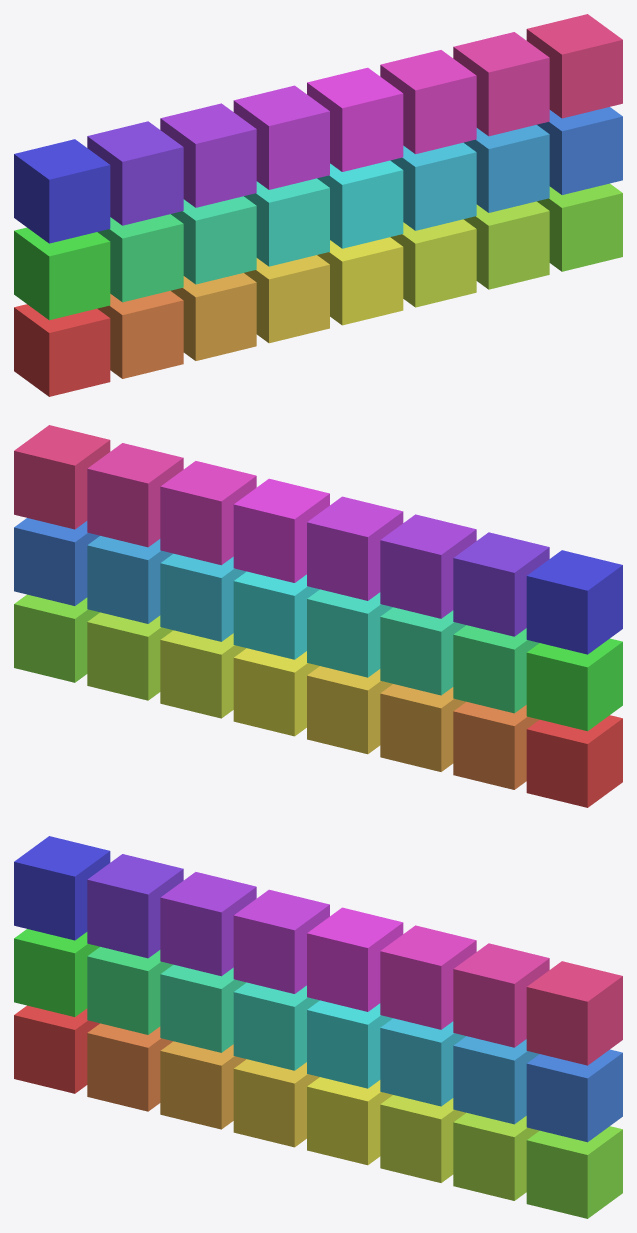
The model's file is many_materials.glb.
3 renders of one model, top to bottom at view 1: azimuth 30°, elevation 25°; view 2: azimuth 150°, elevation 25°; view 3: azimuth 330°, elevation 25°, orthographic.
Parts seen in each view (by area): view 1: swatches; view 2: swatches; view 3: swatches.
Part boxes in pixels (x1,y1,x2,y2): swatches: (14, 14, 622, 396); swatches: (14, 425, 622, 807); swatches: (14, 836, 622, 1218).
Size of the model in its own units: 94 by 34 by 10.
